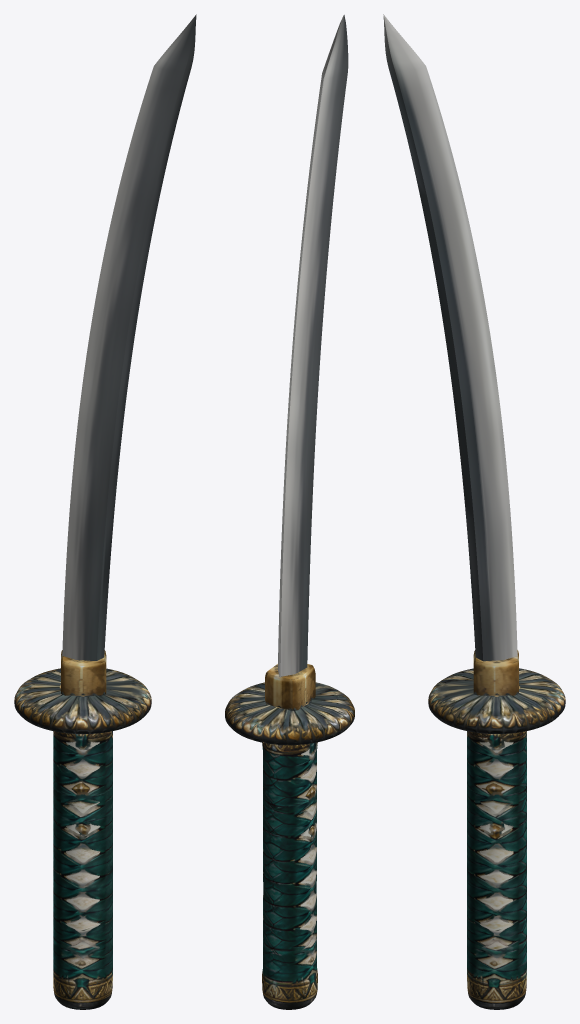
Rendered from Uchigatana_Initial.glb.
The picture shows the model from 3 angles, left to right: view 1: azimuth 90°, elevation 25°; view 2: azimuth 150°, elevation 25°; view 3: azimuth 270°, elevation 25°; orthographic projection. The views are drawn at different scales.
Parts seen in each view (by area): view 1: Uchigatana_Smoothed_Blade, Uchigatana_Handle_Guard_Habaki; view 2: Uchigatana_Handle_Guard_Habaki, Uchigatana_Smoothed_Blade; view 3: Uchigatana_Smoothed_Blade, Uchigatana_Handle_Guard_Habaki.
Boxes of the visible parts, box(x1,y1,x2,y2) form: Uchigatana_Smoothed_Blade: box(62, 14, 196, 660); Uchigatana_Handle_Guard_Habaki: box(14, 650, 151, 1009); Uchigatana_Handle_Guard_Habaki: box(225, 664, 354, 1009); Uchigatana_Smoothed_Blade: box(277, 14, 348, 677); Uchigatana_Smoothed_Blade: box(383, 14, 517, 661); Uchigatana_Handle_Guard_Habaki: box(428, 650, 565, 1009).
Bounding box in the file's own units: 0.122 × 0.9843 × 0.1647.
Materials: 1 (1 with a texture image).
